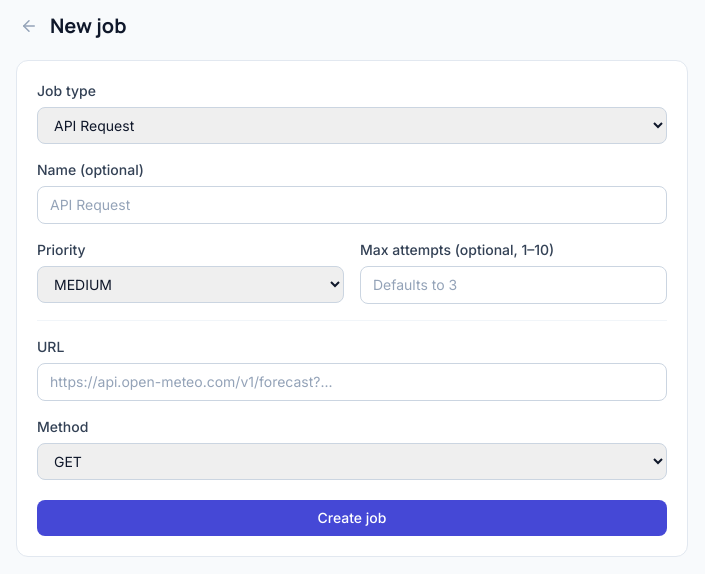
Test: JobCreatePage › switches to a file picker for CSV Processing
The width and height of the screenshot is (705, 574).
Select "CSV Processing" in the dropdown labelled "Job type" at (352,126), box [37,107,667,144]
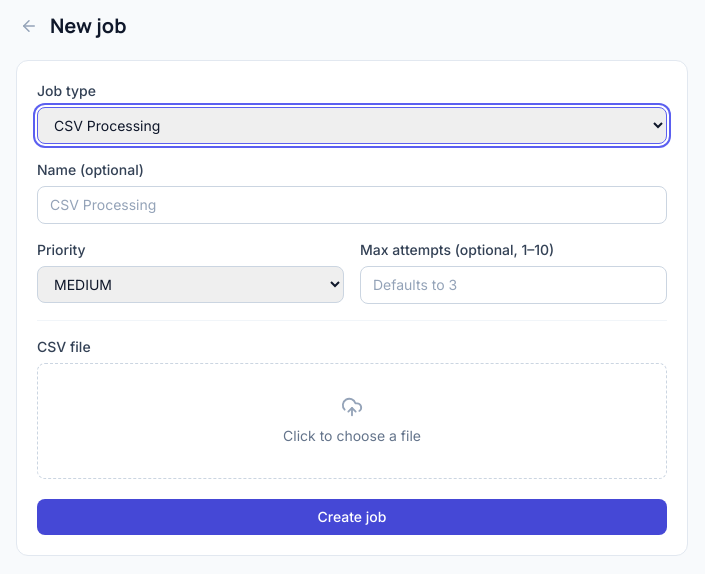
Expected: the file field labelled "CSV file Click to choose a file" is shown, [37,337,667,479]
Now the text "CSV file" is shown, box [37,338,91,355]
